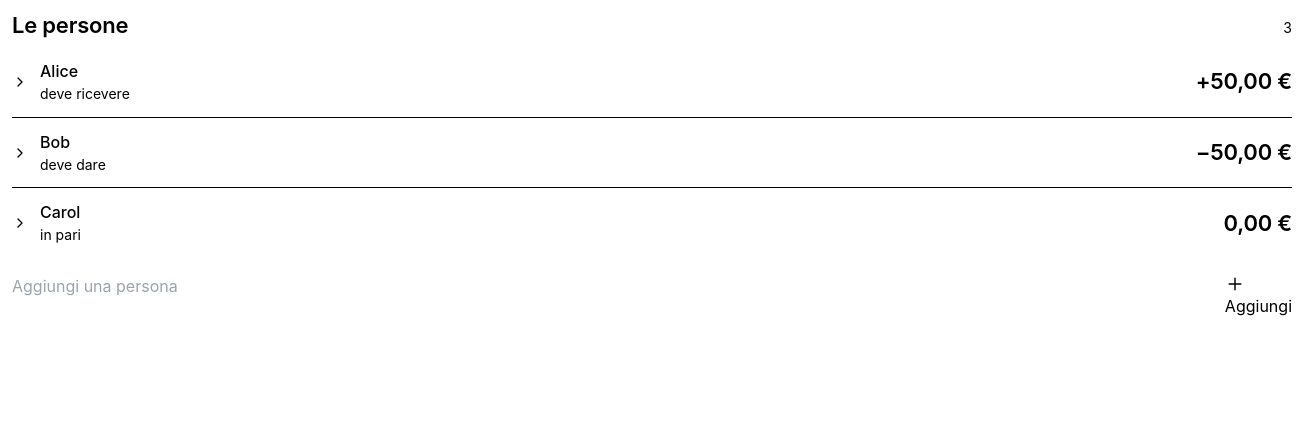
Test: ParticipantPanel › offers remove once the person is square
Click the button "Carol in pari 0,00 €".
click(60, 212)  # box [12,188,1292,258]
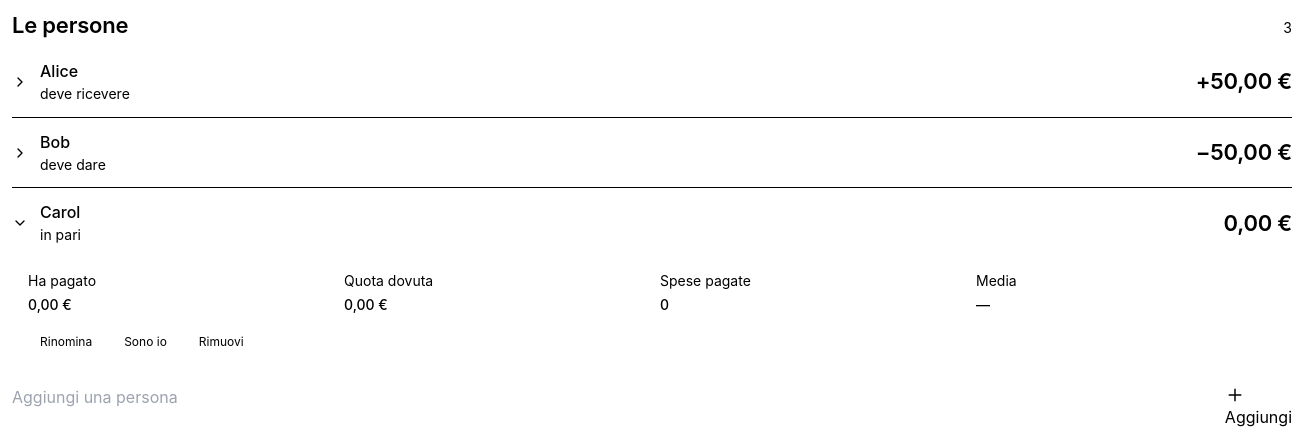
expect the list item that starts with "Carol" shows "Rimuovi": met, box [187,327,256,357]
